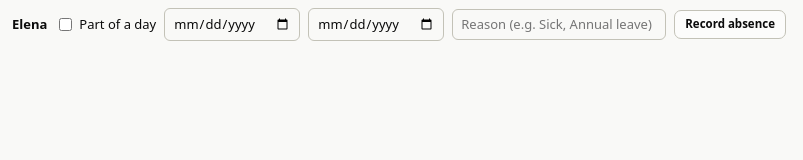
Test: AbsenceForm — a fixed person the server accepts › a server refusal after the click is shown in words, never pre-guessed
The width and height of the screenshot is (803, 160).
Type "2027-05-01" into the date field named "From" at [232, 24], box 164,8 -> 300,41
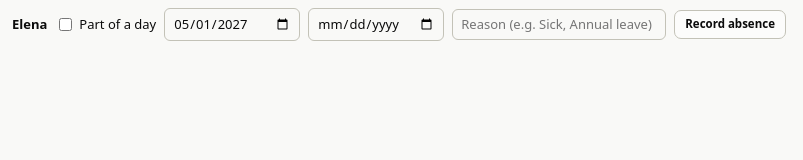
Type "2027-05-03" into the date field named "To" at [376, 24], box 308,8 -> 444,41
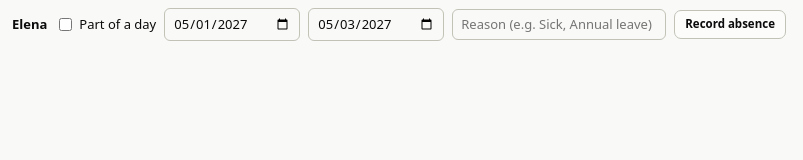
Type "Leave" into the field labelled "Reason" at [559, 24], box 452,9 -> 666,40
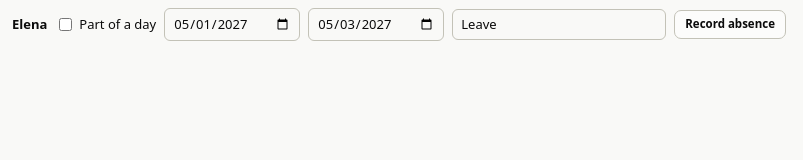
Click the button "Record absence" at [730, 24], box 674,10 -> 786,39
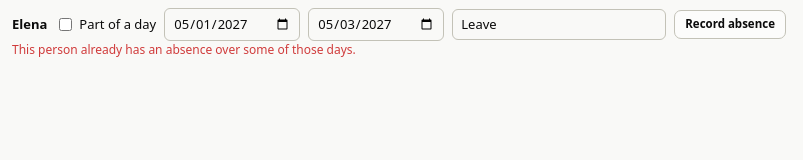
Result: the text "This person already has an absence over some of those days." is shown at 12,41 -> 356,58
